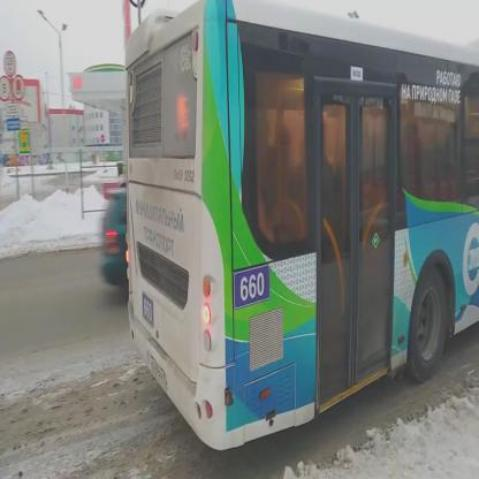bus: (124, 0, 479, 451)
car: (95, 186, 138, 293)
